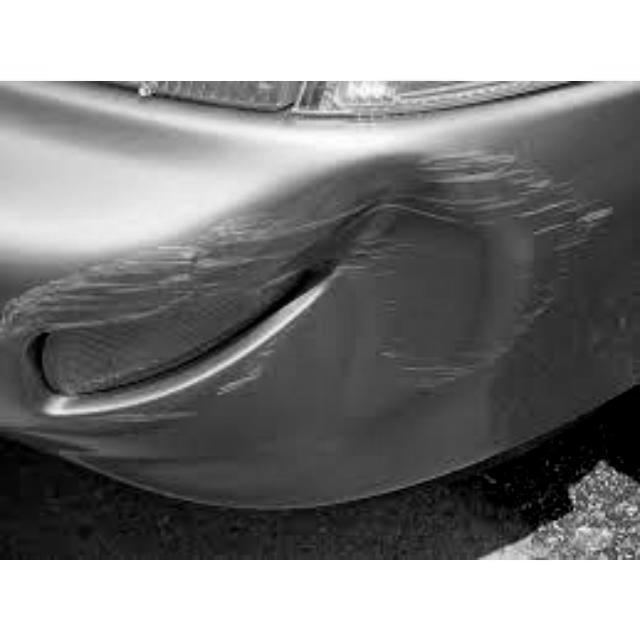front-bumper-dent: (1, 81, 638, 486)
